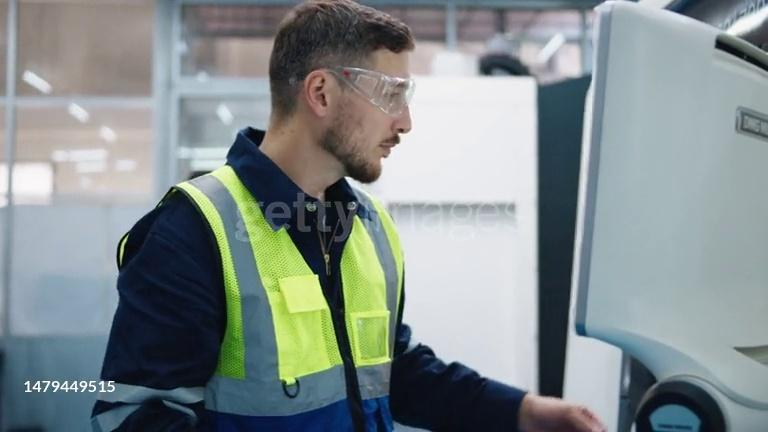person: (82, 2, 610, 432)
